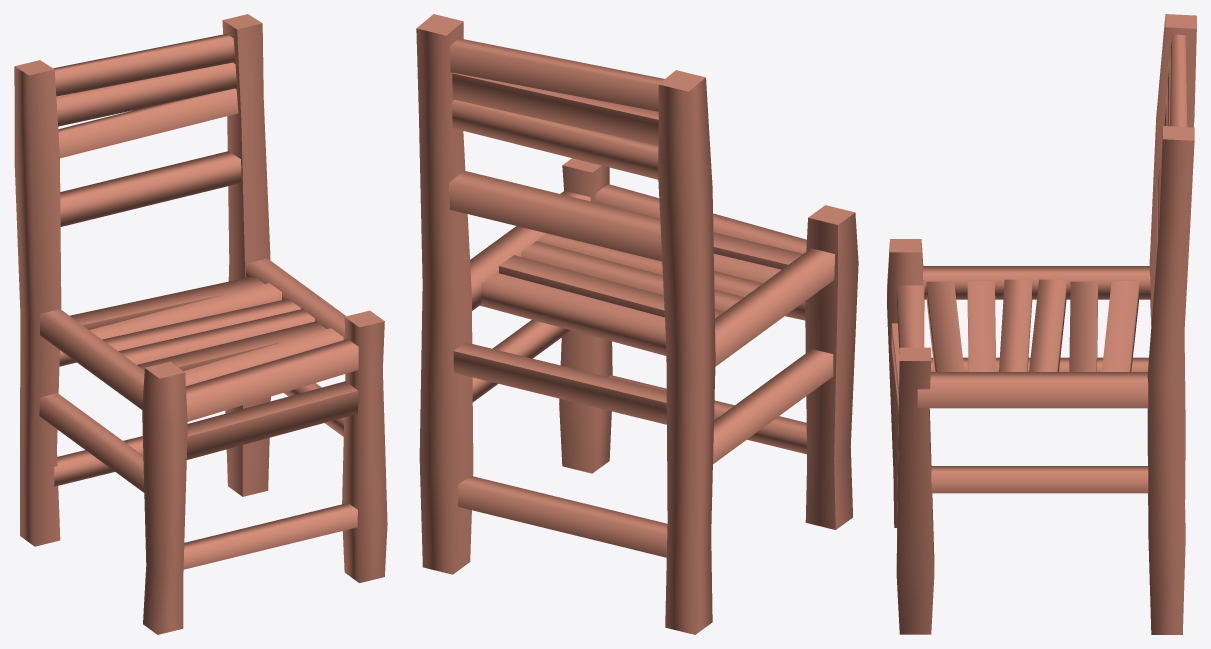
Rendered from chair_01.fbx.
3 renders of one model, left to right at view 1: azimuth 30°, elevation 25°; view 2: azimuth 150°, elevation 25°; view 3: azimuth 270°, elevation 25°, orthographic. The views are drawn at different scales.
Parts seen in each view (by area): view 1: Plane.005; view 2: Plane.005; view 3: Plane.005.
Boxes of the visible parts, x1=… form: Plane.005: x1=14, y1=14, x2=387, y2=634; Plane.005: x1=416, y1=14, x2=858, y2=634; Plane.005: x1=887, y1=14, x2=1196, y2=634.
Bounding box in the file's own units: 0.5638 × 1.07 × 0.6016.
